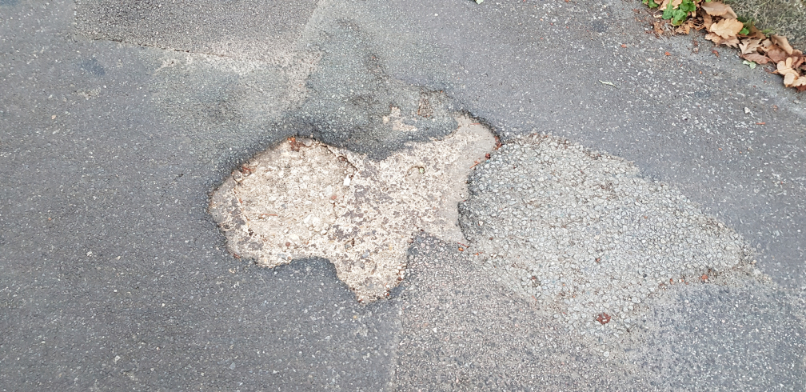pothole: (204, 104, 503, 306)
